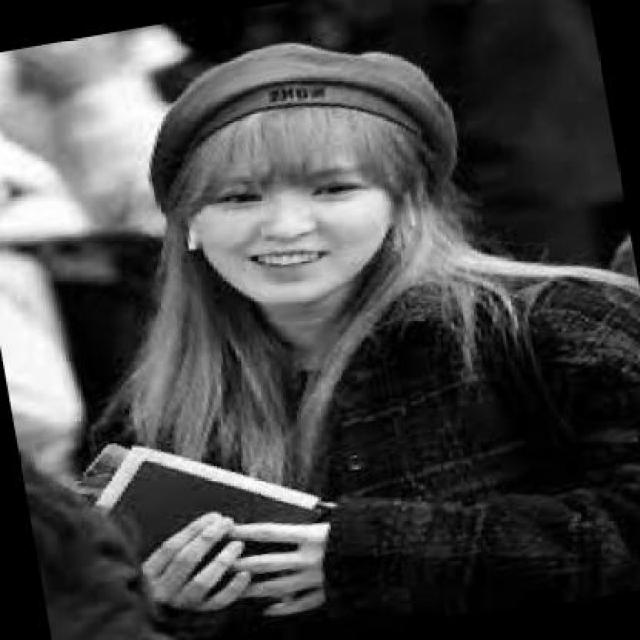earphone: (181, 220, 217, 260), (402, 180, 424, 240)
